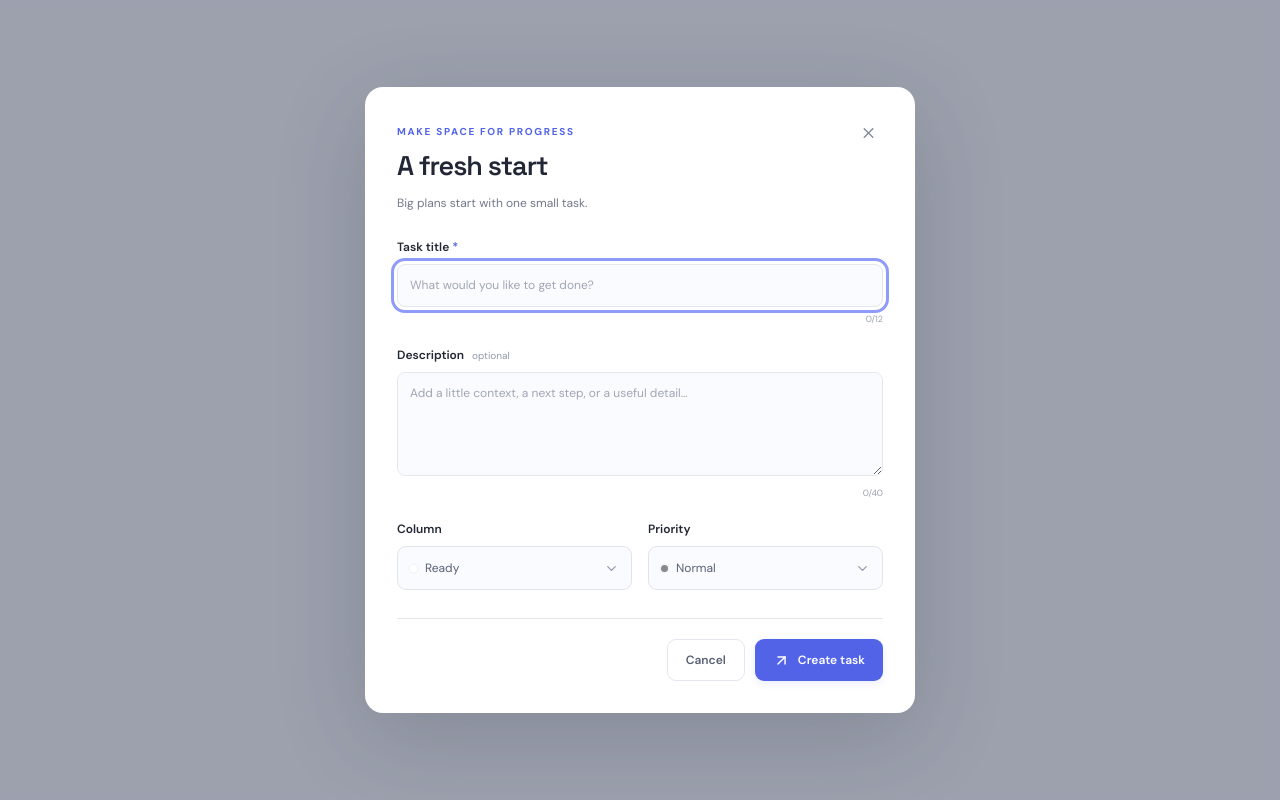
Test: validates configured limits and preserves the draft after a server rejection
Click the button "Create task" at (819, 660), box [755,639,883,681]
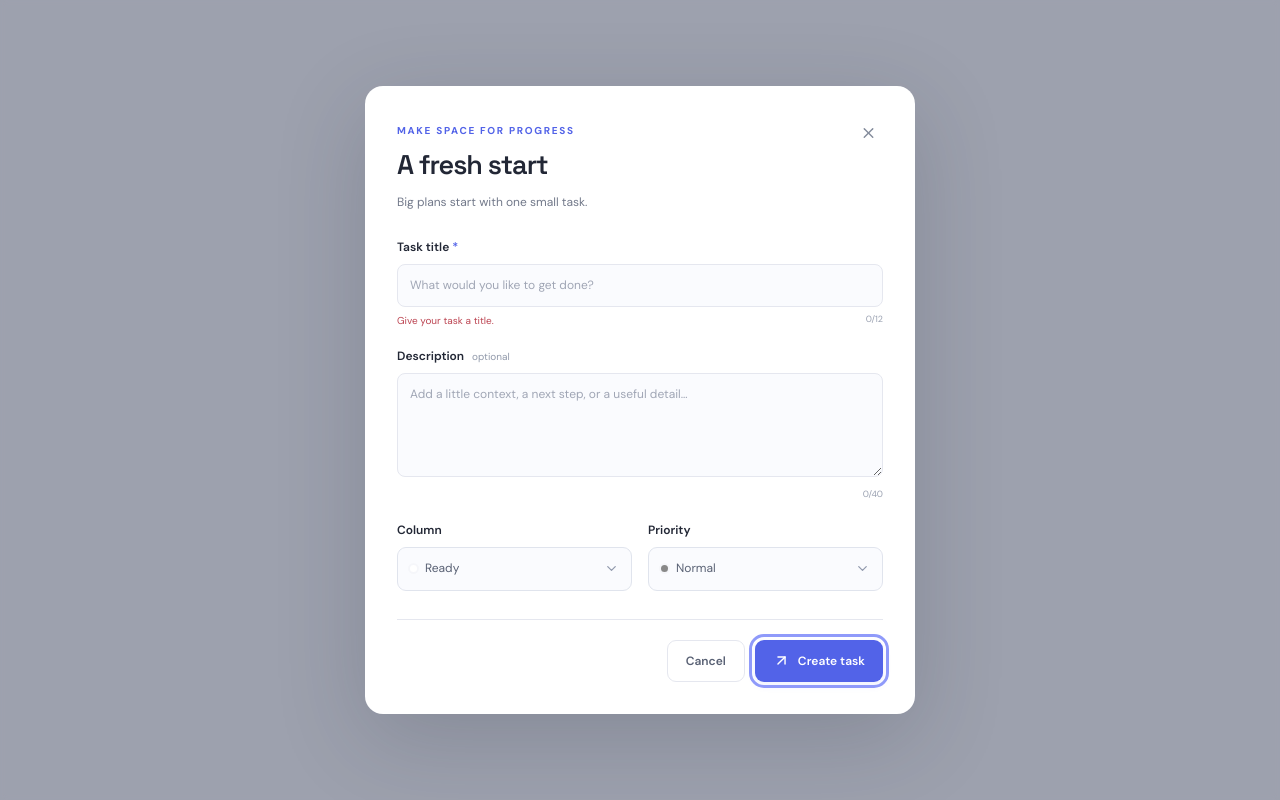
Now the text "Give your task a title." is shown, box [397,313,494,328]
Type "Long title exceeding limit" into the field labelled "Task title *" at (640, 285), box [397,264,883,307]
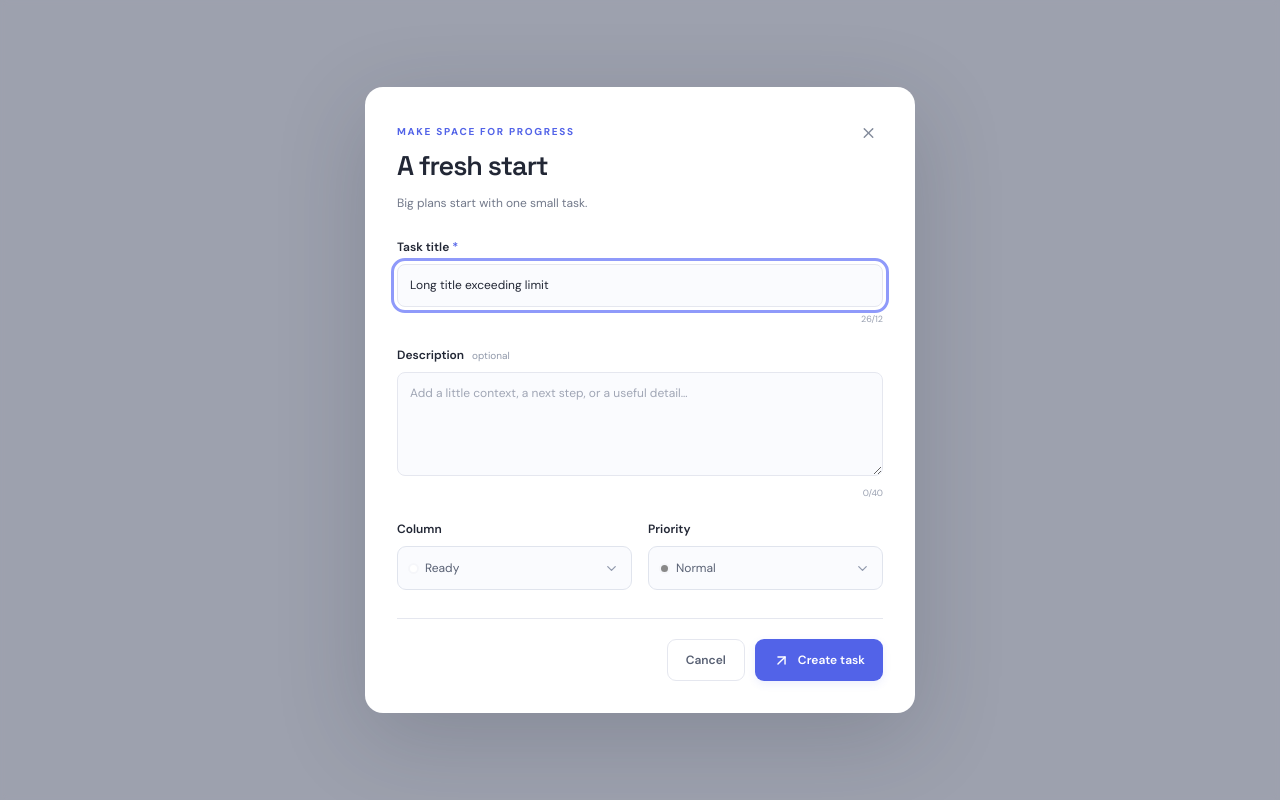
Click the button "Create task" at (819, 660), box [755,639,883,681]
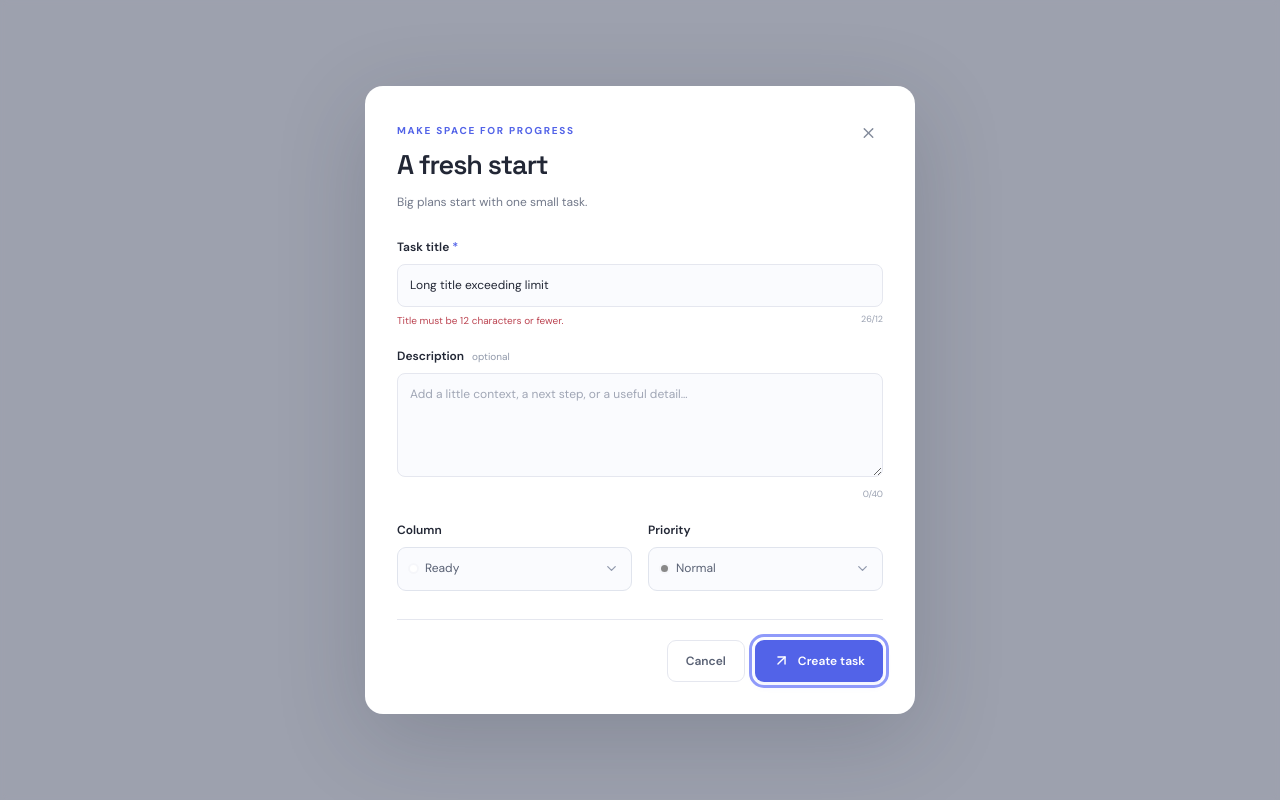
Now the text "Title must be 12 characters or fewer." is shown, box [397,313,564,328]
Clear the field labelled "Task title *" at (640, 285), box [397,264,883,307]
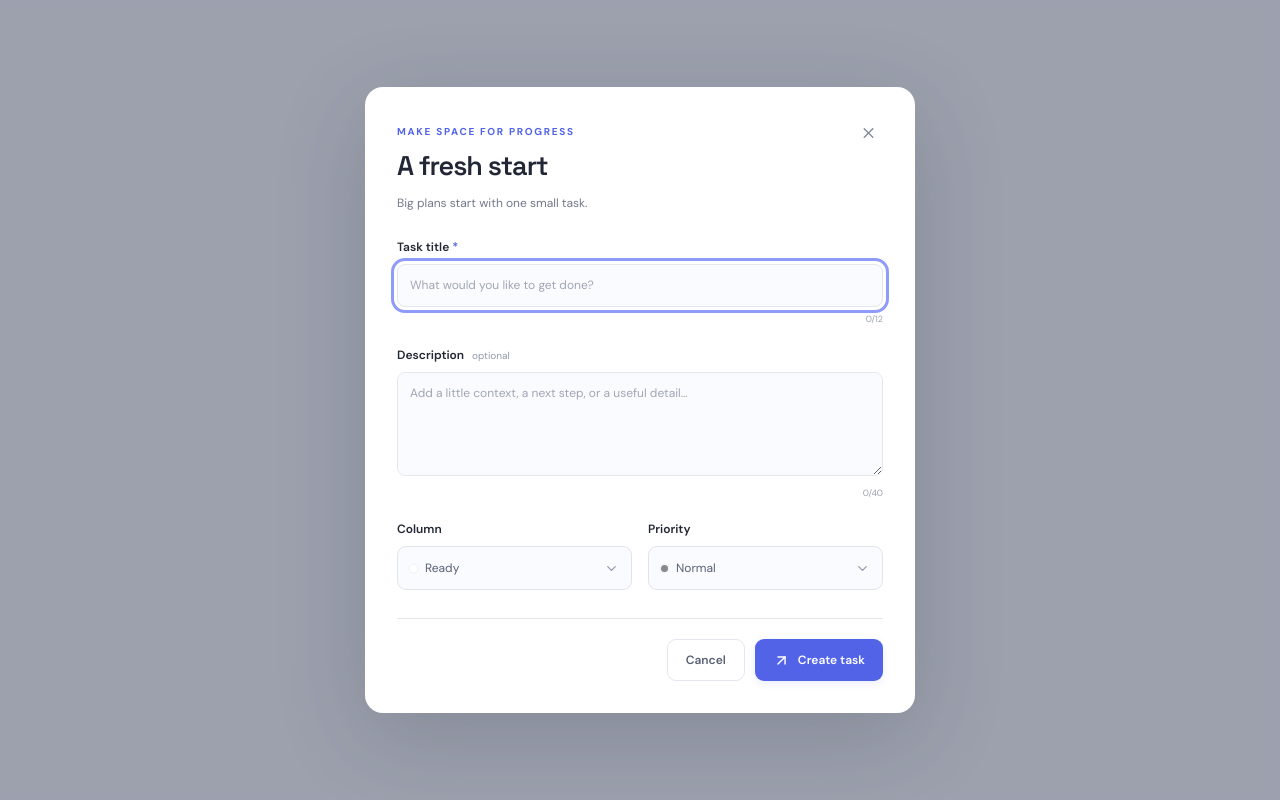
Type "New brief" into the field labelled "Task title *" at (640, 286), box [397,264,883,307]
Type "Preserve this context" into the text box labelled "Description optional" at (640, 424), box [397,372,883,476]
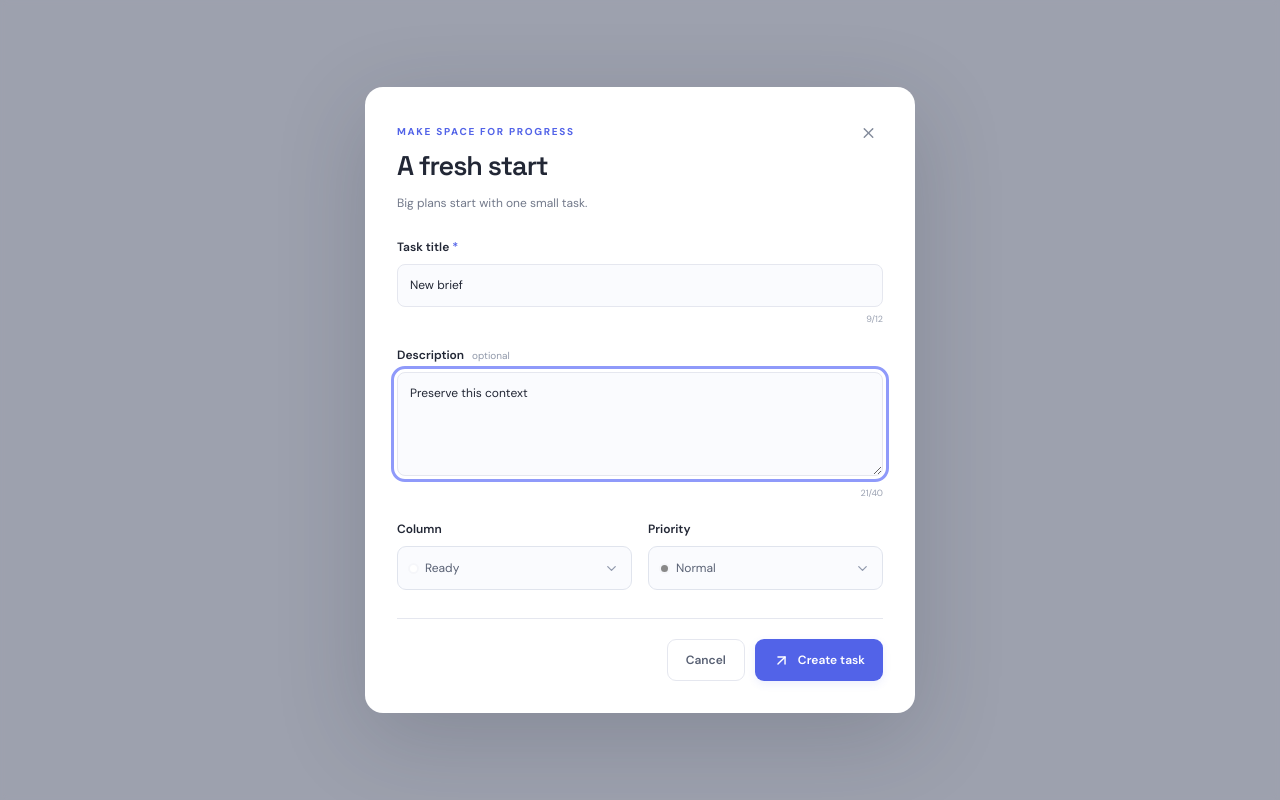
Click the button "Create task" at (819, 660), box [755,639,883,681]
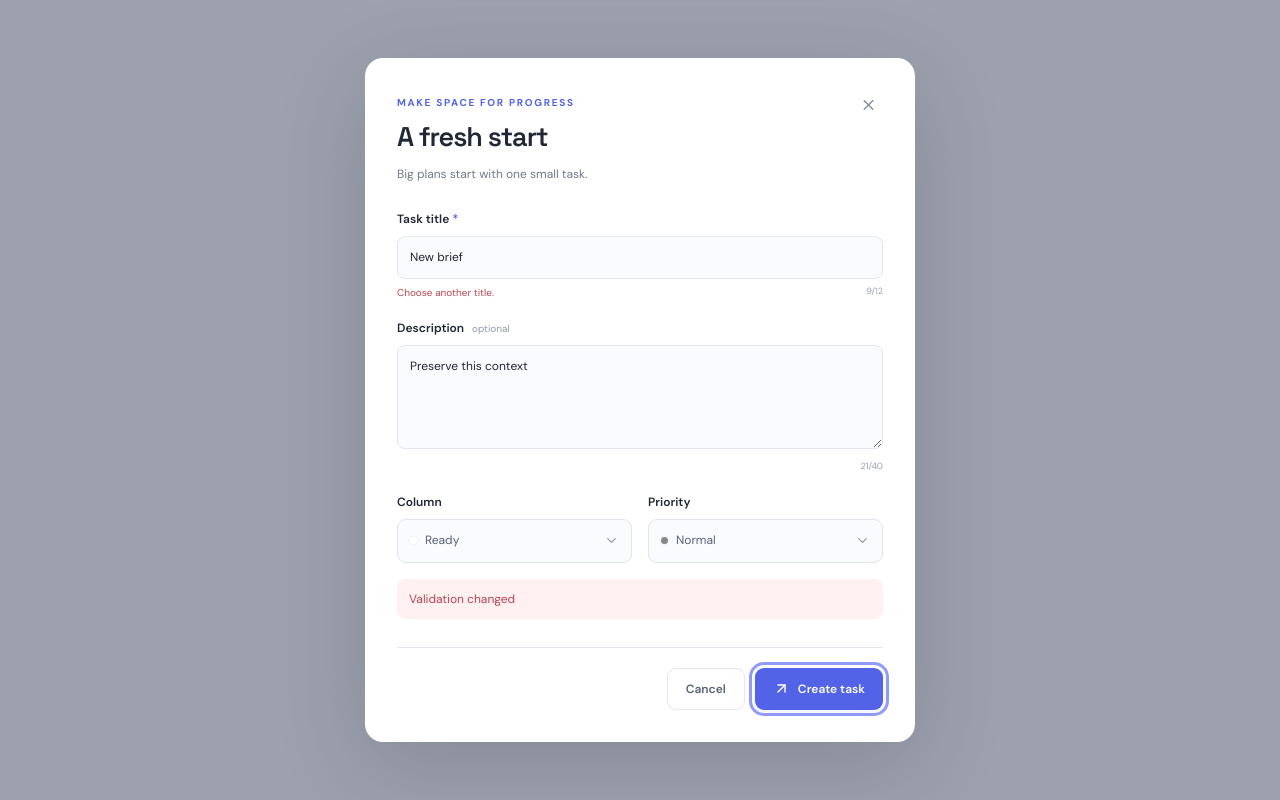
Now the message reads "Validation changed", box [409,591,515,607]
Now the text "Choose another title." is shown, box [397,285,494,300]
